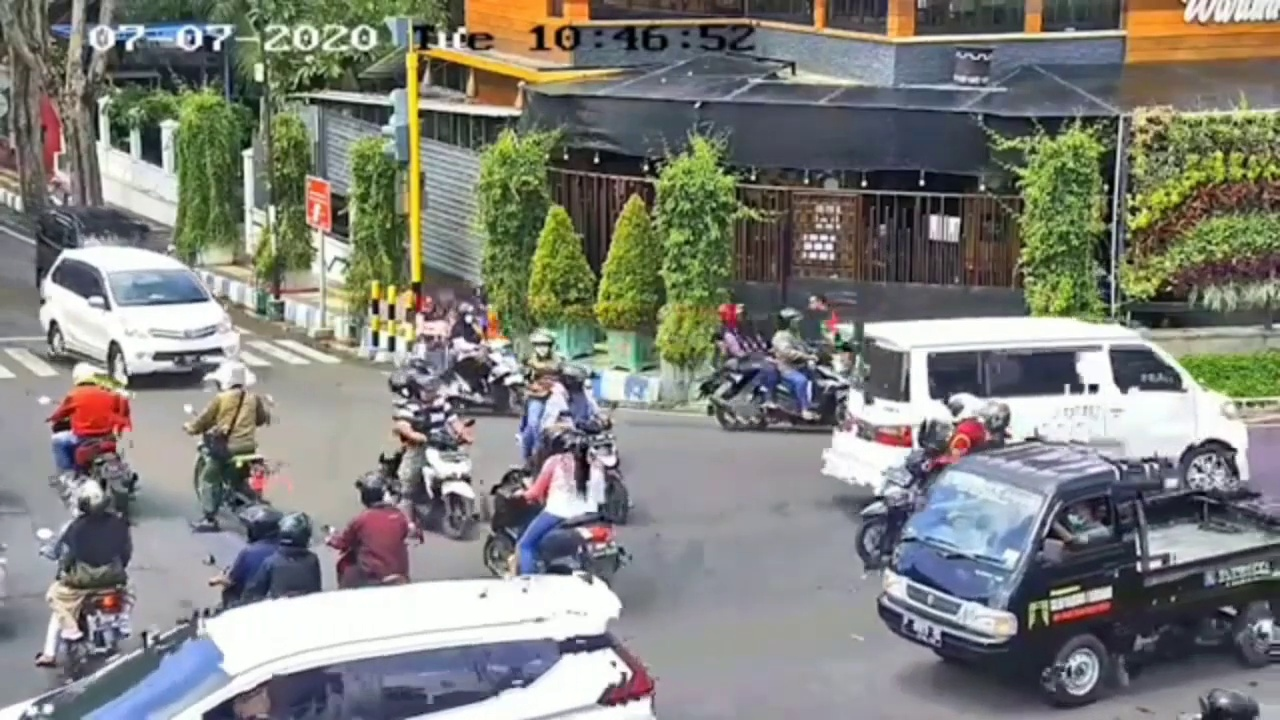car: (874, 439, 1278, 708), (1, 586, 664, 719), (826, 317, 1248, 498), (37, 247, 242, 383), (40, 201, 158, 324)
motorbike: (867, 399, 1013, 584), (479, 437, 617, 595), (518, 343, 634, 520), (43, 488, 137, 676), (715, 300, 853, 426), (380, 370, 474, 540), (38, 367, 133, 527), (191, 363, 271, 522), (439, 294, 521, 415)
